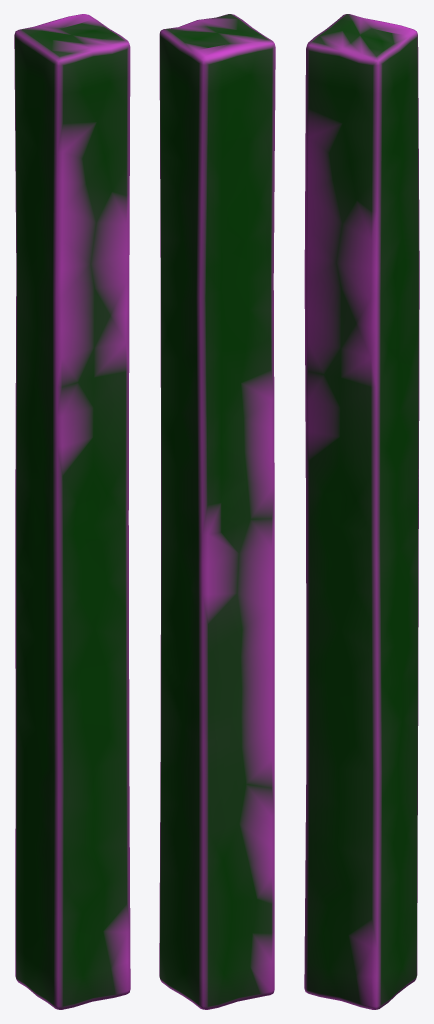
File: pillar_300_01.fbx
3 views of the same model, side by side, from view 1: azimuth 30°, elevation 25°; view 2: azimuth 210°, elevation 25°; view 3: azimuth 330°, elevation 25° (orthographic).
Parts seen in each view (by area): view 1: pillar_300_01; view 2: pillar_300_01; view 3: pillar_300_01.
Part boxes in pixels (x1=…): pillar_300_01: x1=14, y1=14, x2=130, y2=1009; pillar_300_01: x1=159, y1=14, x2=275, y2=1009; pillar_300_01: x1=304, y1=14, x2=419, y2=1009.
Bounding box in the file's own units: 0.2563 × 3.01 × 0.2585.
